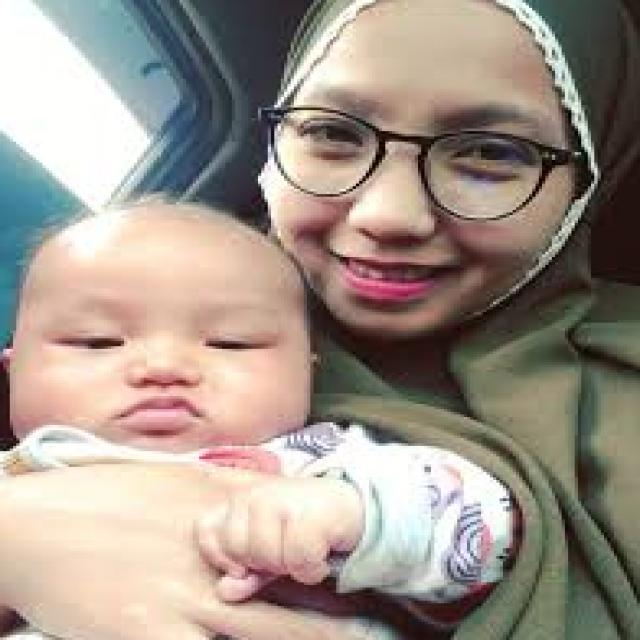Glasses: (251, 102, 591, 226)
